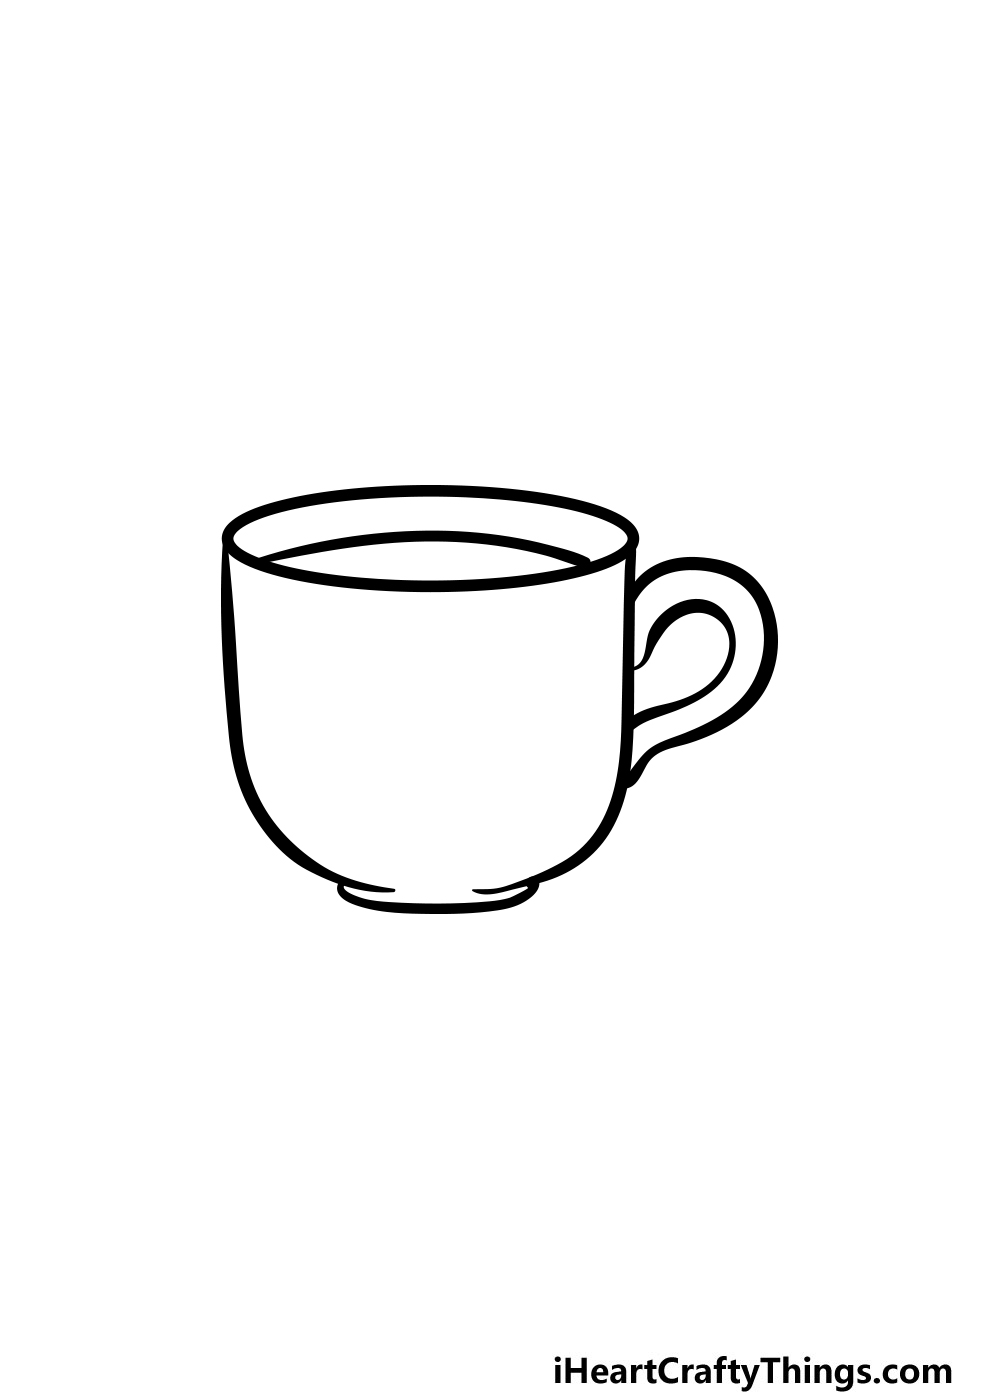cup: (213, 474, 782, 916)
